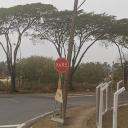Pare: (54, 58, 69, 72)
